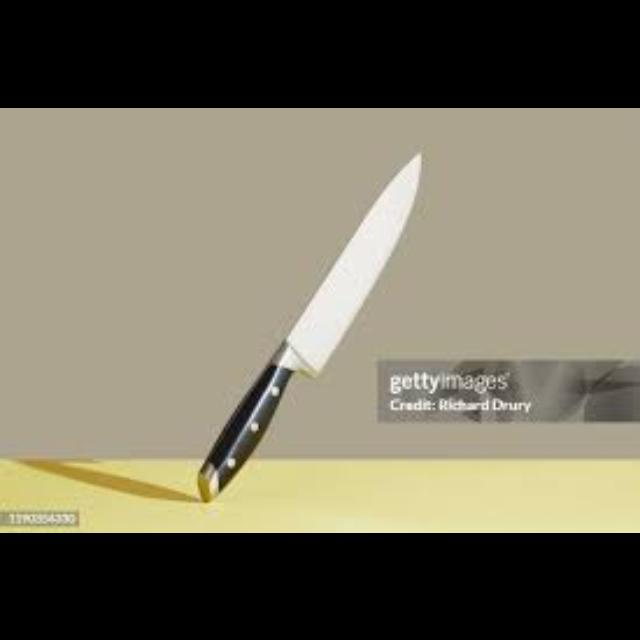Knife: (196, 150, 420, 500)
